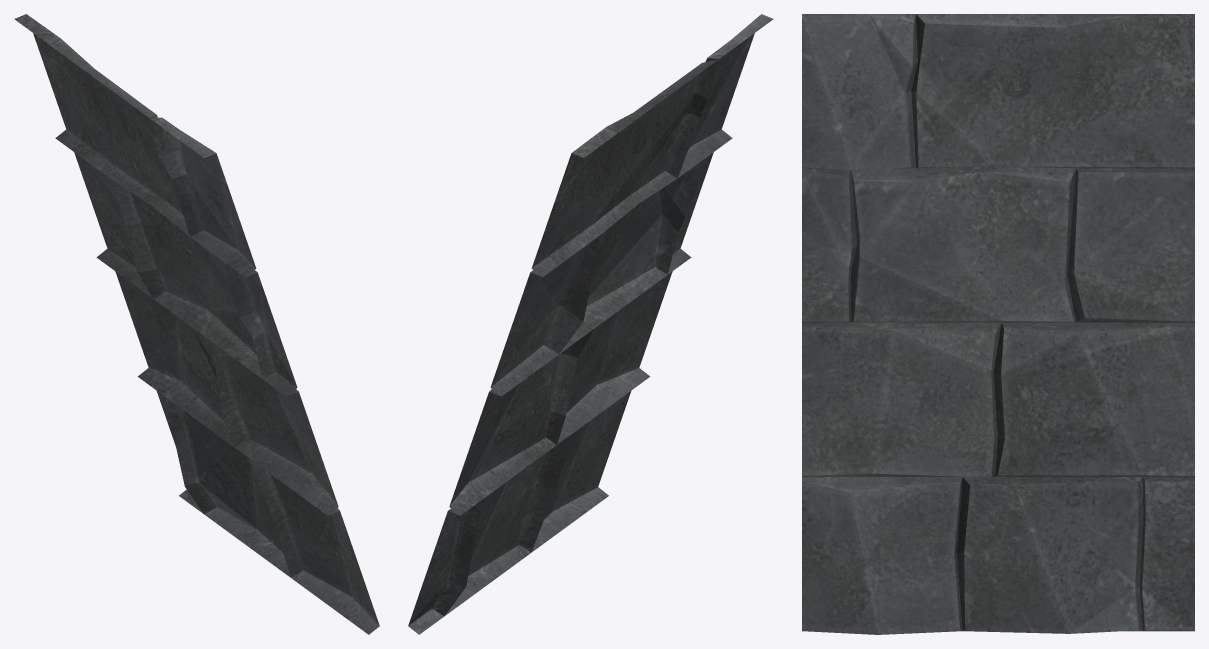
The model's file is WallDefault.fbx.
3 views of the same model, side by side, from view 1: azimuth 30°, elevation 25°; view 2: azimuth 150°, elevation 25°; view 3: azimuth 270°, elevation 25° (orthographic). The views are drawn at different scales.
Visible parts, largest first — view 1: WALL_Default; view 2: WALL_Default; view 3: WALL_Default.
Part boxes in pixels (x1,y1,x2,y2): WALL_Default: [14, 14, 379, 634]; WALL_Default: [408, 14, 773, 634]; WALL_Default: [802, 14, 1194, 634].
Size of the model in its own units: 4.49 by 12.06 by 8.
Materials: 1 (1 with a texture image).
